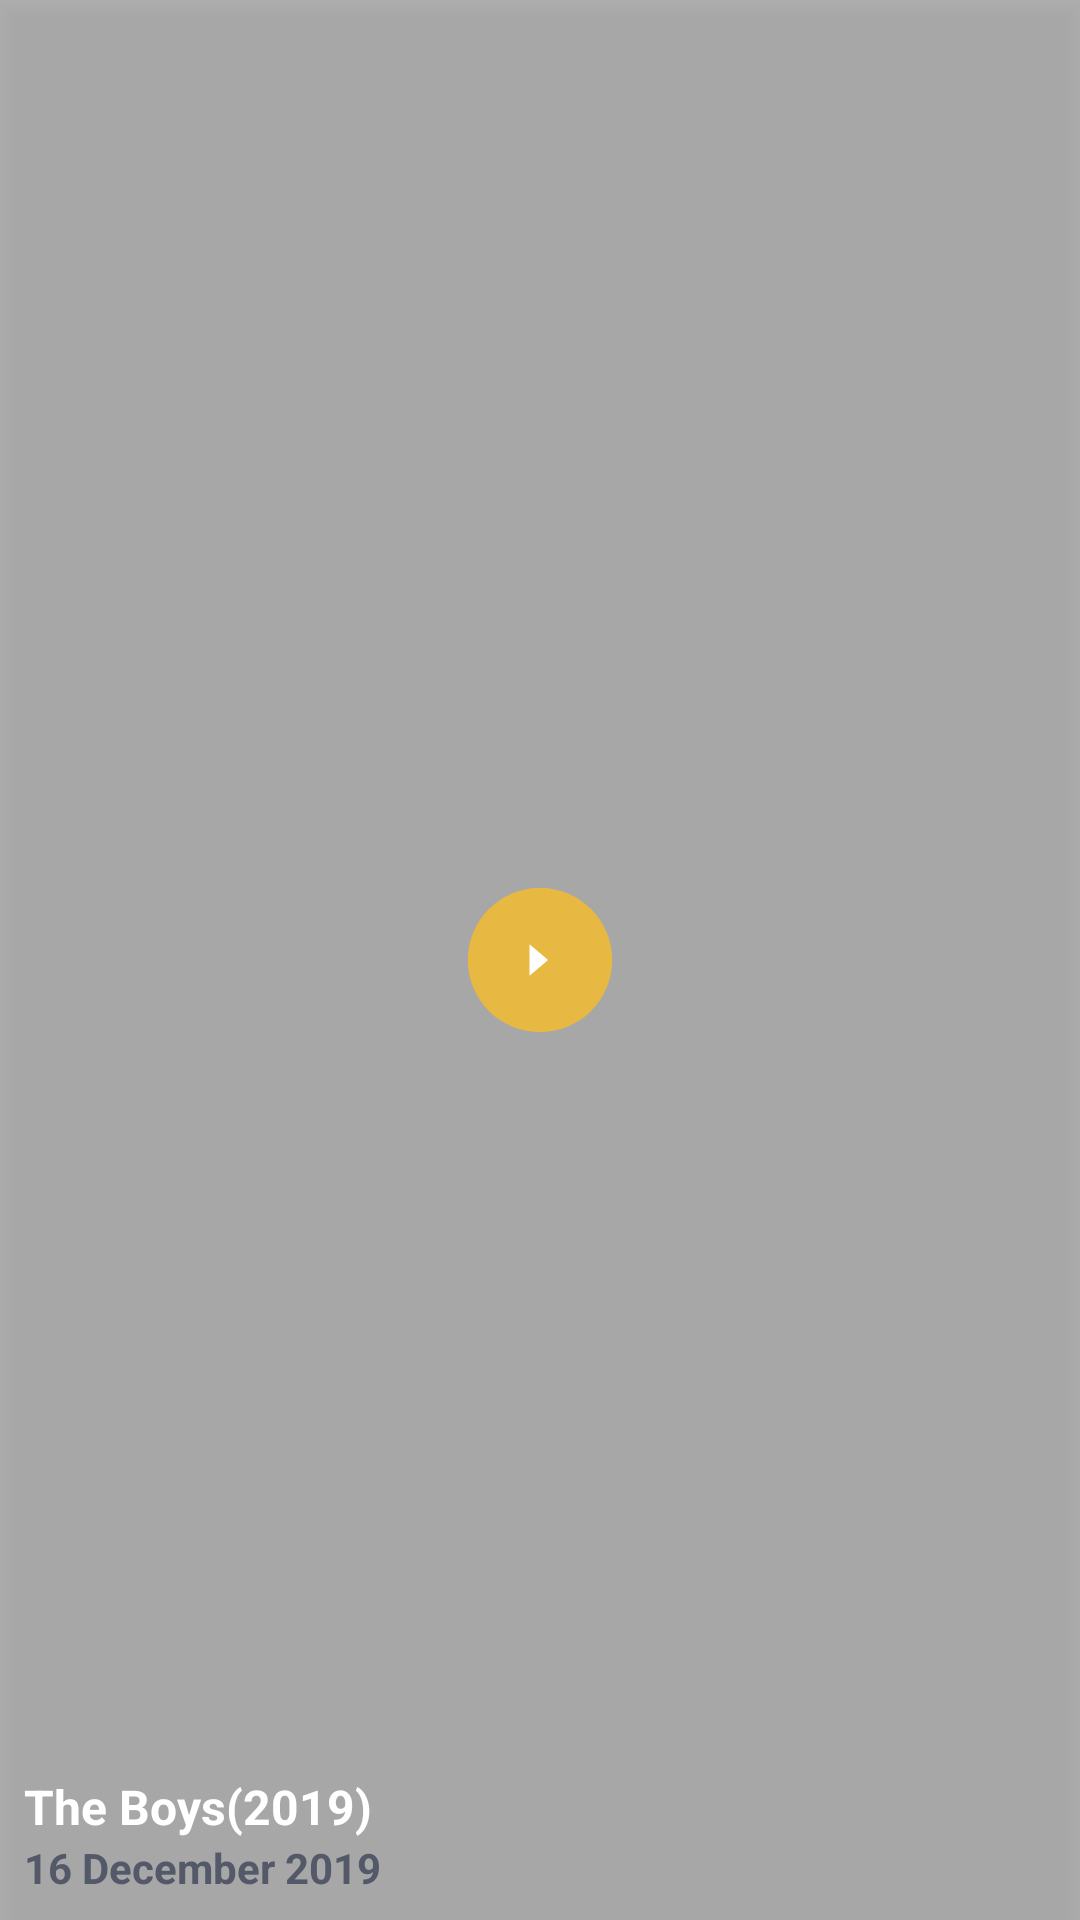

Icons on this 1080w x 1920h Android screen, each with the point to tap as (x=x, y=y):
play arrow: (x=540, y=960)
